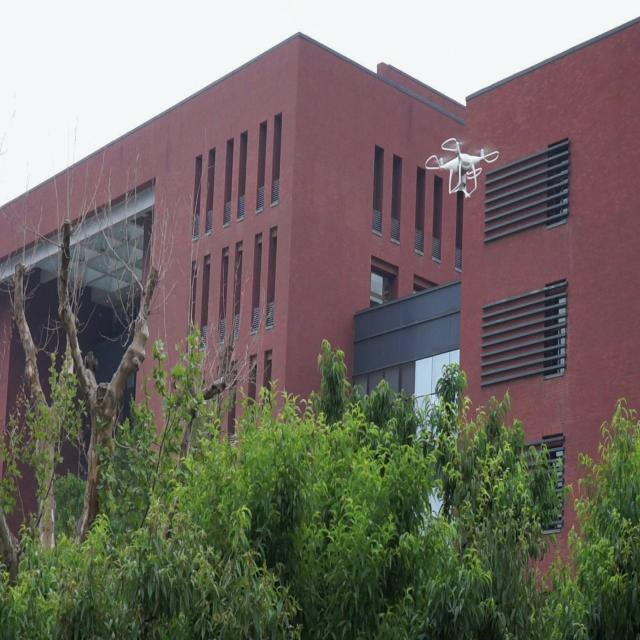drone: (423, 134, 501, 204)
